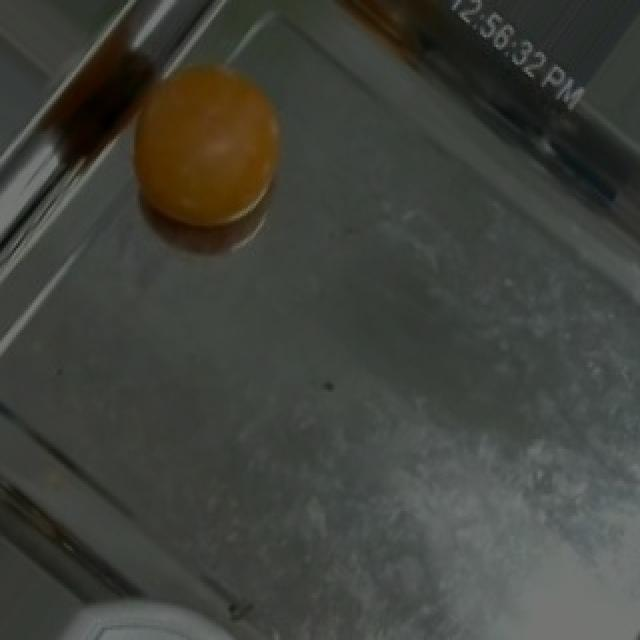Fruit: (102, 50, 310, 258)
